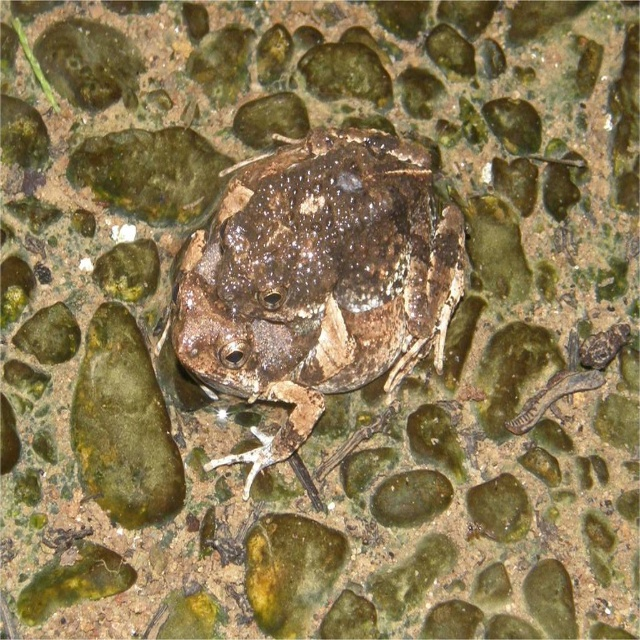Frog: (151, 124, 466, 503)
